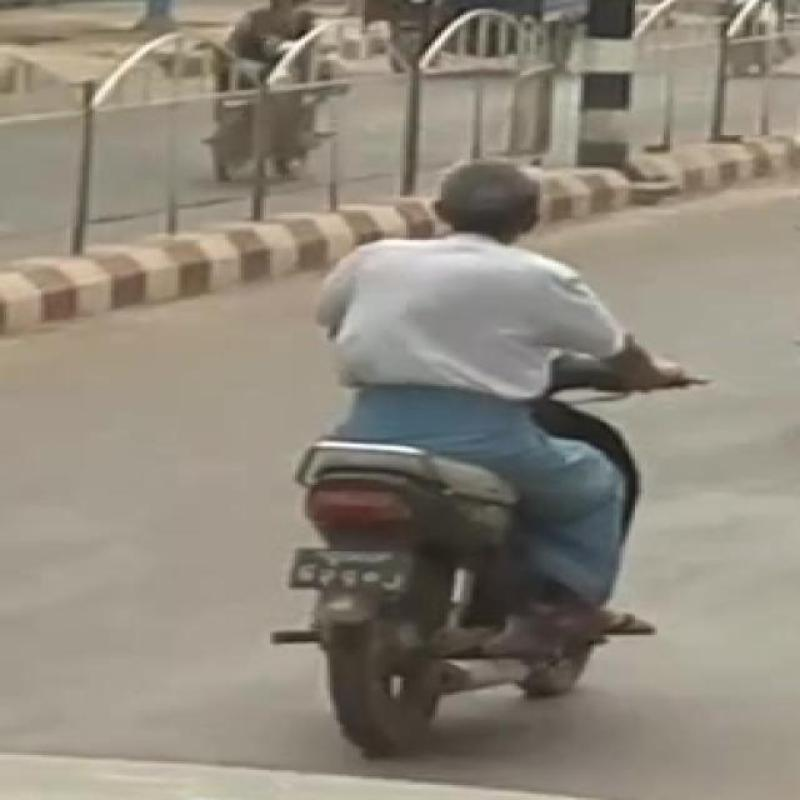nohelmet: (400, 130, 626, 280)
